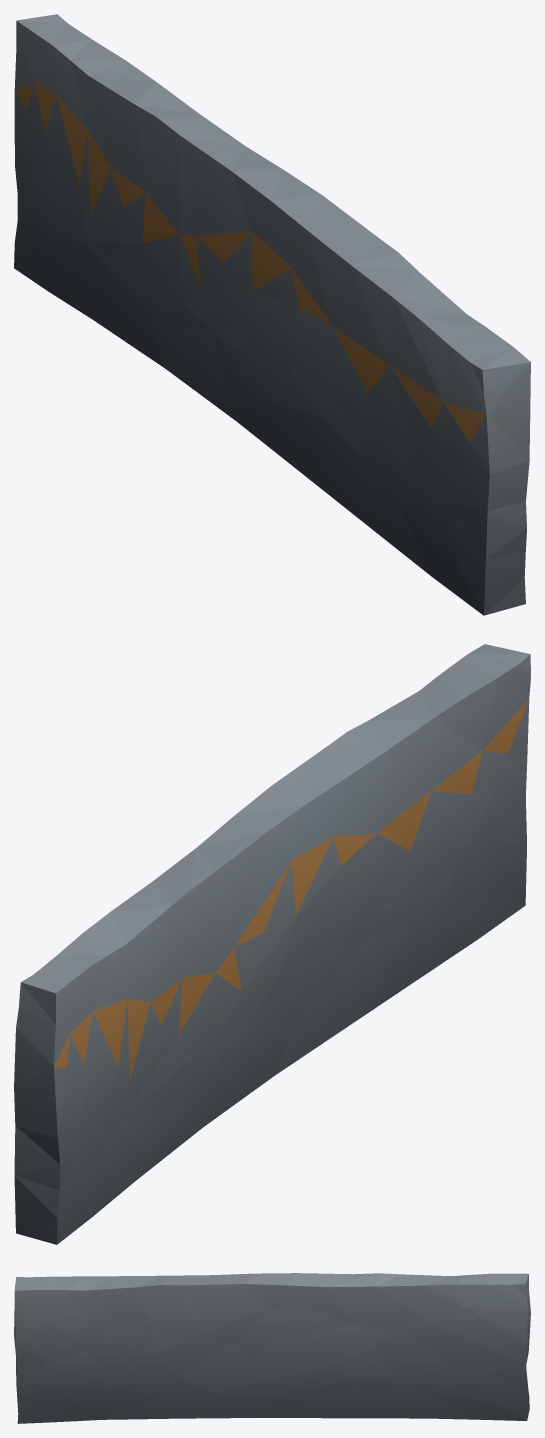
File: wall_glue.fbx
3 views of the same model, one above another, from view 1: azimuth 30°, elevation 25°; view 2: azimuth 150°, elevation 25°; view 3: azimuth 270°, elevation 25° (orthographic). The views are drawn at different scales.
Parts seen in each view (by area): view 1: wall_glue; view 2: wall_glue; view 3: wall_glue.
Boxes of the visible parts, box(x1,y1,x2,y2) form: wall_glue: box(14, 14, 530, 615); wall_glue: box(14, 644, 530, 1244); wall_glue: box(14, 1273, 530, 1423).
Bounding box in the file's own units: 300 × 1500 × 4958.
